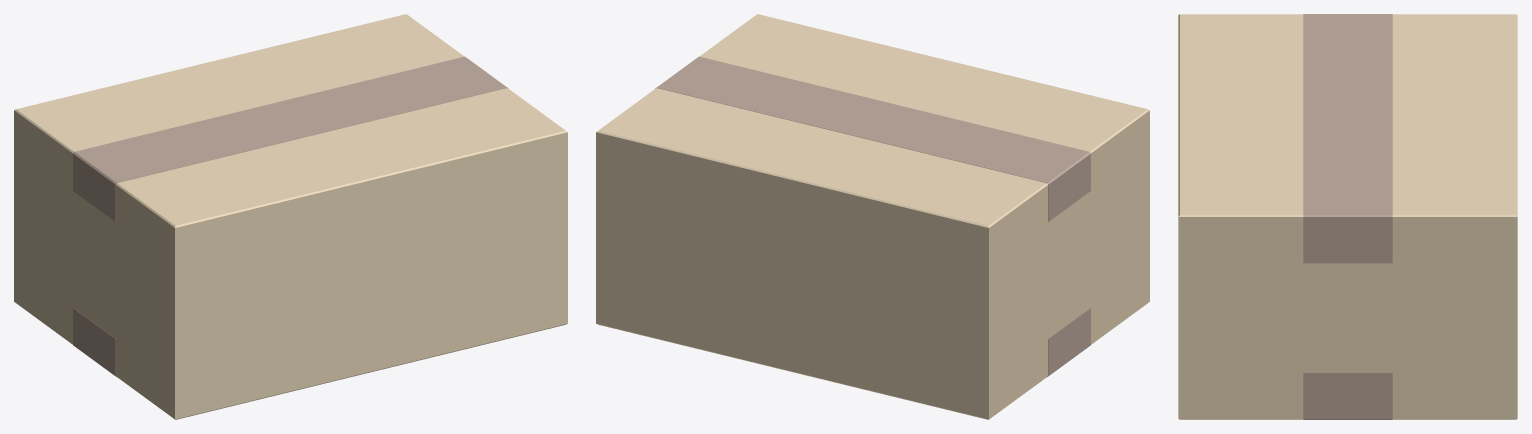
The model's file is 069_ダンボール小閉.glb.
3 renders of one model, left to right at view 1: azimuth 30°, elevation 25°; view 2: azimuth 150°, elevation 25°; view 3: azimuth 270°, elevation 25°, orthographic. The views are drawn at different scales.
Parts seen in each view (by area): view 1: Body; view 2: Body; view 3: Body.
Boxes of the visible parts, x1=… form: Body: x1=14, y1=14, x2=567, y2=419; Body: x1=596, y1=14, x2=1149, y2=419; Body: x1=1178, y1=14, x2=1517, y2=419.
Bounding box in the file's own units: 0.3204 × 0.1514 × 0.227.
